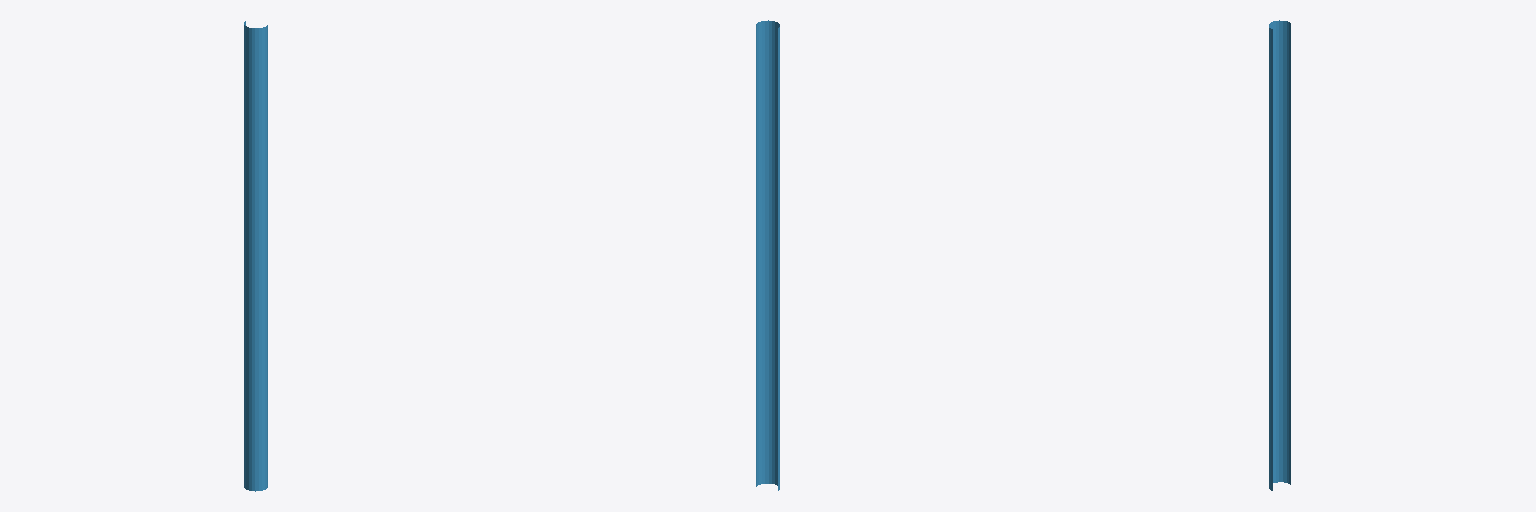
The robot description file, URDF, robot "partnet_e8fdbe64ccce82a2e2bb19fbad3e4596-0":
<?xml version="1.0" ?>
<robot name="partnet_e8fdbe64ccce82a2e2bb19fbad3e4596-0">
	<link name="base"/>
	<link name="link_0">
		<visual name="lid-1">
			<origin xyz="-0.0 0.33352888942731274 0.189507"/>
			<geometry>
				<mesh filename="textured_objs/original-1.obj"/>
			</geometry>
		</visual>
		<collision>
			<origin xyz="-0.0 0.33352888942731274 0.189507"/>
			<geometry>
				<mesh filename="textured_objs/original-1.obj"/>
			</geometry>
		</collision>
	</link>
	<joint name="joint_0" type="revolute">
		<origin xyz="0.0 -0.33352888942731274 -0.189507"/>
		<axis xyz="1.0 -0.0 -0.0"/>
		<child link="link_0"/>
		<parent link="link_2"/>
		<limit lower="-1.0471975511965976" upper="2.0943951023931953"/>
	</joint>
	<link name="link_1">
		<visual name="handle-2">
			<origin xyz="0.27395400000000025 -0.6275036156386198 0.2234539661454532"/>
			<geometry>
				<mesh filename="textured_objs/original-7.obj"/>
			</geometry>
		</visual>
		<collision>
			<origin xyz="0.27395400000000025 -0.6275036156386198 0.2234539661454532"/>
			<geometry>
				<mesh filename="textured_objs/original-7.obj"/>
			</geometry>
		</collision>
	</link>
	<joint name="joint_1" type="revolute">
		<origin xyz="-0.27395400000000025 0.6275036156386198 -0.2234539661454532"/>
		<axis xyz="1.0 -0.0 -0.0"/>
		<child link="link_1"/>
		<parent link="link_2"/>
		<limit lower="-1.5707963267948966" upper="1.5707963267948966"/>
	</joint>
	<link name="link_2">
		<visual name="base_body-3">
			<origin xyz="0 0 0"/>
			<geometry>
				<mesh filename="textured_objs/original-4.obj"/>
			</geometry>
		</visual>
		<visual name="base_body-3">
			<origin xyz="0 0 0"/>
			<geometry>
				<mesh filename="textured_objs/original-3.obj"/>
			</geometry>
		</visual>
		<visual name="base_body-3">
			<origin xyz="0 0 0"/>
			<geometry>
				<mesh filename="textured_objs/original-8.obj"/>
			</geometry>
		</visual>
		<visual name="base_body-3">
			<origin xyz="0 0 0"/>
			<geometry>
				<mesh filename="textured_objs/original-5.obj"/>
			</geometry>
		</visual>
		<visual name="base_body-3">
			<origin xyz="0 0 0"/>
			<geometry>
				<mesh filename="textured_objs/original-6.obj"/>
			</geometry>
		</visual>
		<collision>
			<origin xyz="0 0 0"/>
			<geometry>
				<mesh filename="textured_objs/original-4.obj"/>
			</geometry>
		</collision>
		<collision>
			<origin xyz="0 0 0"/>
			<geometry>
				<mesh filename="textured_objs/original-3.obj"/>
			</geometry>
		</collision>
		<collision>
			<origin xyz="0 0 0"/>
			<geometry>
				<mesh filename="textured_objs/original-8.obj"/>
			</geometry>
		</collision>
		<collision>
			<origin xyz="0 0 0"/>
			<geometry>
				<mesh filename="textured_objs/original-5.obj"/>
			</geometry>
		</collision>
		<collision>
			<origin xyz="0 0 0"/>
			<geometry>
				<mesh filename="textured_objs/original-6.obj"/>
			</geometry>
		</collision>
	</link>
	<joint name="joint_2" type="fixed">
		<origin rpy="1.570796326794897 0 -1.570796326794897" xyz="0 0 0"/>
		<child link="link_2"/>
		<parent link="base"/>
	</joint>
</robot>

--- Facts derived from the render (not from the file) ---
3 views of the same robot in one strip: view 1: azimuth 30°, elevation 25°; view 2: azimuth 210°, elevation 25°; view 3: azimuth 270°, elevation 25° (orthographic).
Model partnet_e8fdbe64ccce82a2e2bb19fbad3e4596-0 with 4 links and 3 joints (2 revolute, 1 fixed), rooted at base, posed all joints at 0.
Visible links, largest first — view 1: link_0; view 2: link_0; view 3: link_0.
Link boxes in pixels (box(x1,y1,x2,y2)): link_0: box(244, 21, 267, 491); link_0: box(756, 20, 779, 490); link_0: box(1269, 20, 1290, 490).
Size in the robot's own frame: 0.0563 by 0.0593 by 1.31 metres.
Meshes: 7 distinct files referenced, 1 mesh visuals loaded (1 OBJ); not drawn: 6 (reference not matched to a file when rendering).